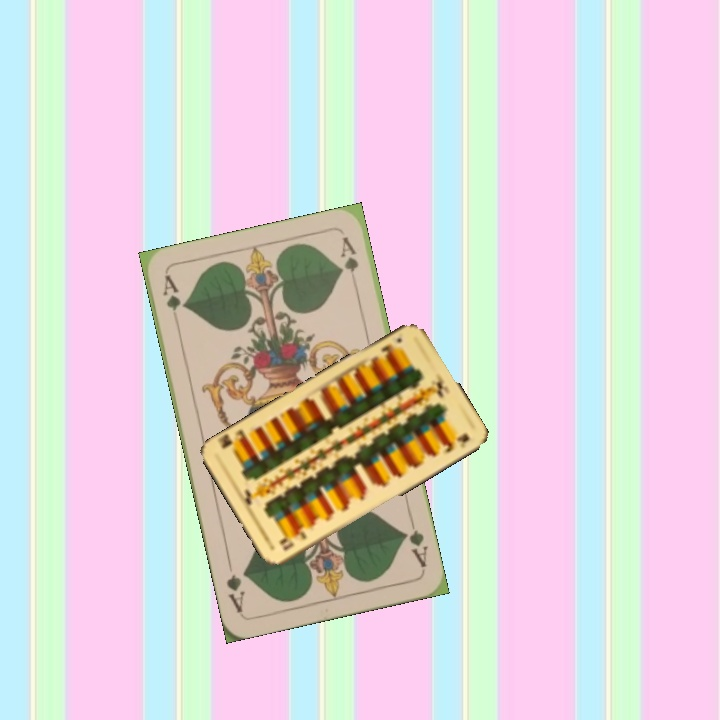E10: (277, 527, 309, 553), (376, 333, 405, 358)
GA: (399, 514, 431, 570), (159, 271, 185, 313)
